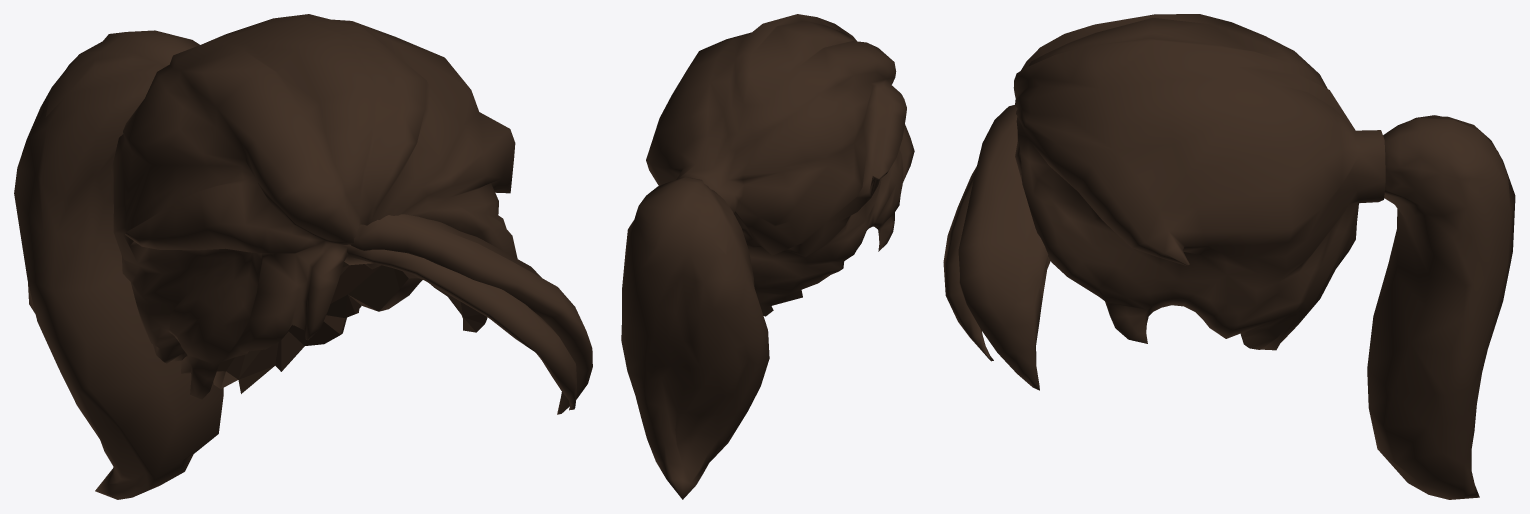
Rendered from hair_w04.glb.
3 renders of one model, left to right at view 1: azimuth 30°, elevation 25°; view 2: azimuth 150°, elevation 25°; view 3: azimuth 270°, elevation 25°, orthographic. The views are drawn at different scales.
Visible parts, largest first — view 1: hair_w04; view 2: hair_w04; view 3: hair_w04.
Boxes of the visible parts, x1,y1,x2,y2 form: hair_w04: (14, 14, 592, 499); hair_w04: (621, 14, 914, 499); hair_w04: (943, 14, 1515, 499).
Bounding box in the file's own units: 0.1792 × 0.2821 × 0.3014.
